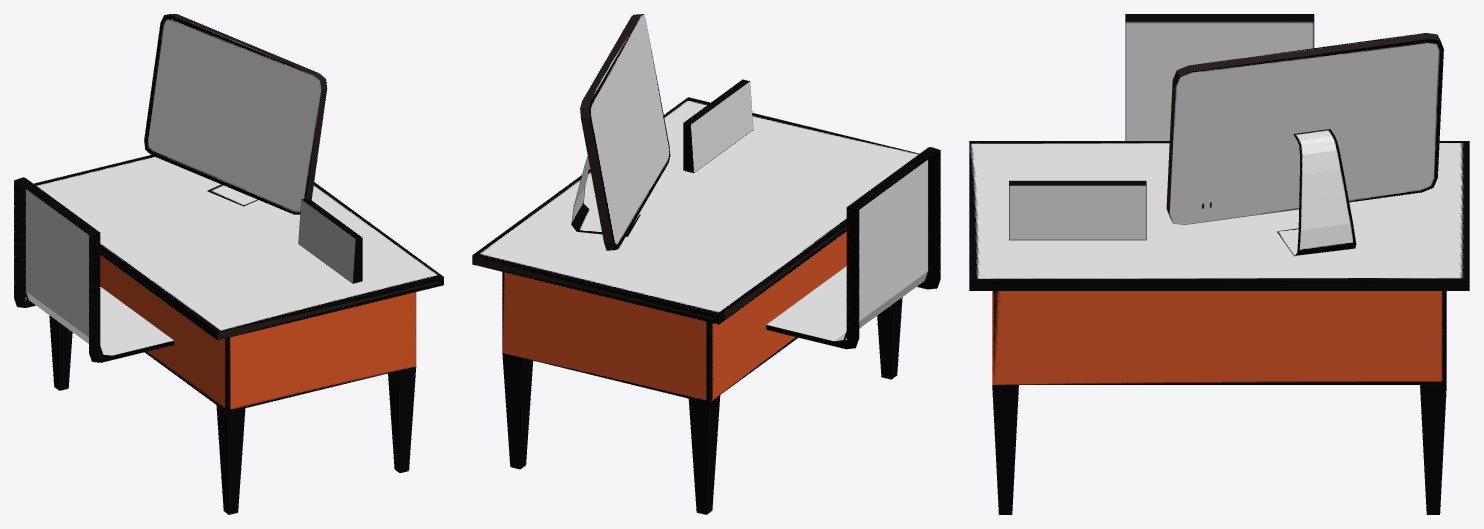
The model's file is desk2.fbx.
3 renders of one model, left to right at view 1: azimuth 30°, elevation 25°; view 2: azimuth 150°, elevation 25°; view 3: azimuth 270°, elevation 25°, orthographic. The views are drawn at different scales.
Parts seen in each view (by area): view 1: Plane.002; view 2: Plane.002; view 3: Plane.002.
Part boxes in pixels (x1,y1,x2,y2): Plane.002: (14, 14, 443, 514); Plane.002: (472, 14, 940, 514); Plane.002: (969, 14, 1469, 514).
Size of the model in its own units: 484 by 550 by 567.
1 material, 1 textured.
